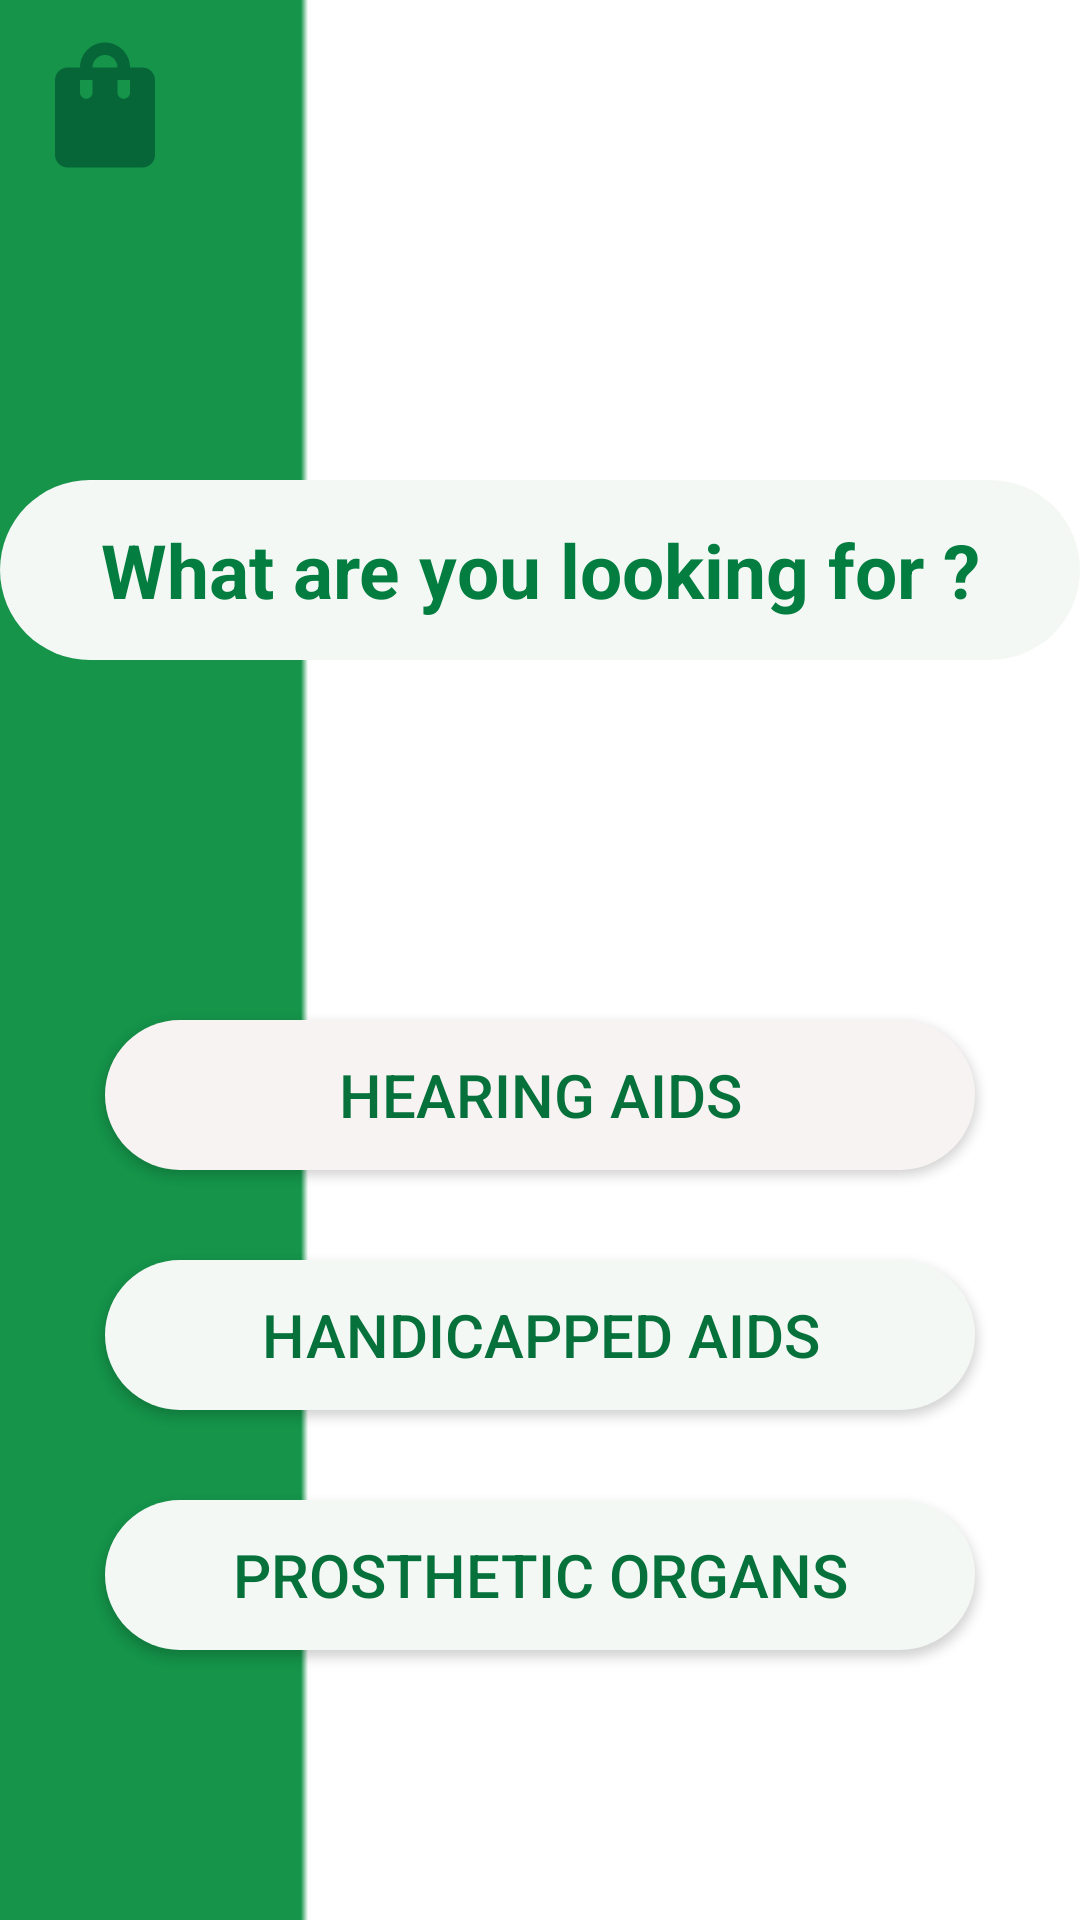

Where to tap for icons on this 1080×1920 app screen, as [x,y]:
shopping bag: [105,105]
